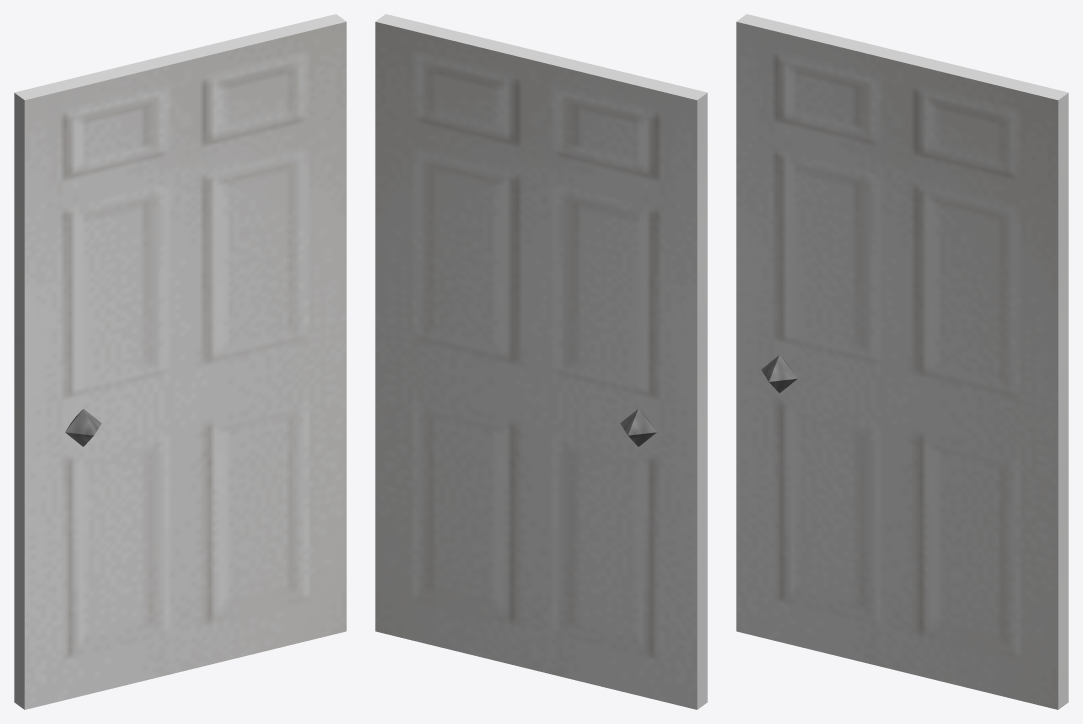
The model's file is Door.fbx.
The picture shows the model from 3 angles, left to right: view 1: azimuth 30°, elevation 25°; view 2: azimuth 150°, elevation 25°; view 3: azimuth 330°, elevation 25°; orthographic projection.
Visible parts, largest first — view 1: Door, Handle; view 2: Door, Handle; view 3: Door, Handle.
Boxes of the visible parts, <box> form: Door: <box>14,14,346,709</box>; Handle: <box>65,409,101,446</box>; Door: <box>375,14,707,709</box>; Handle: <box>620,409,656,446</box>; Door: <box>736,14,1068,709</box>; Handle: <box>761,355,797,393</box>.
Size of the model in its own units: 129 by 234 by 32.81.
1 material, 1 textured.
